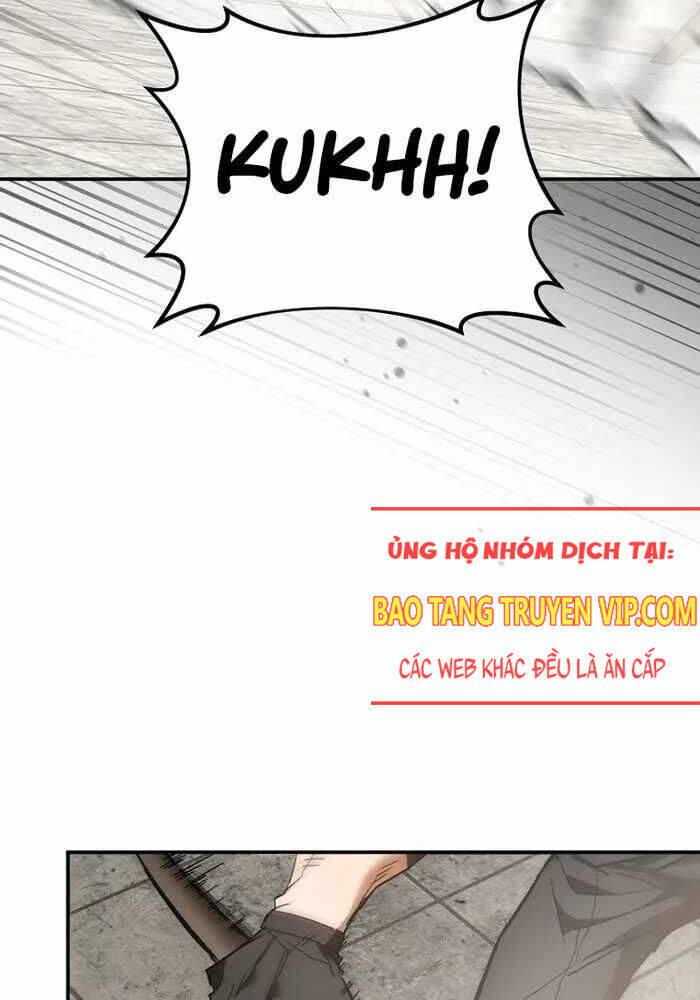quangcao: (370, 504, 700, 707)
